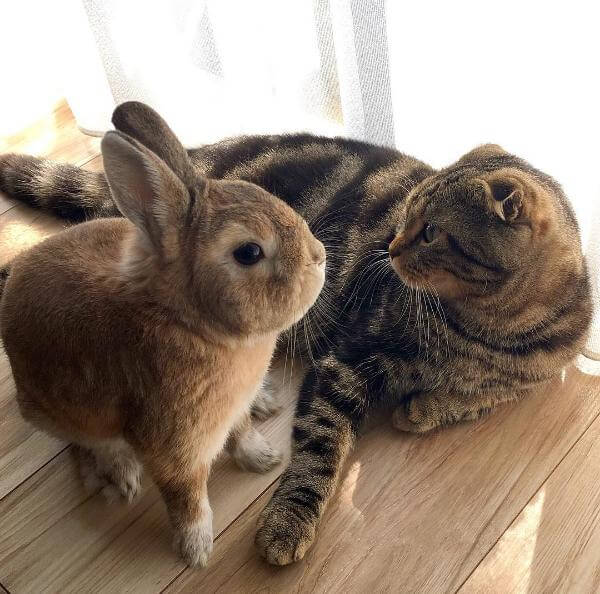cat: (179, 110, 600, 582)
rabbit: (1, 97, 333, 576)
